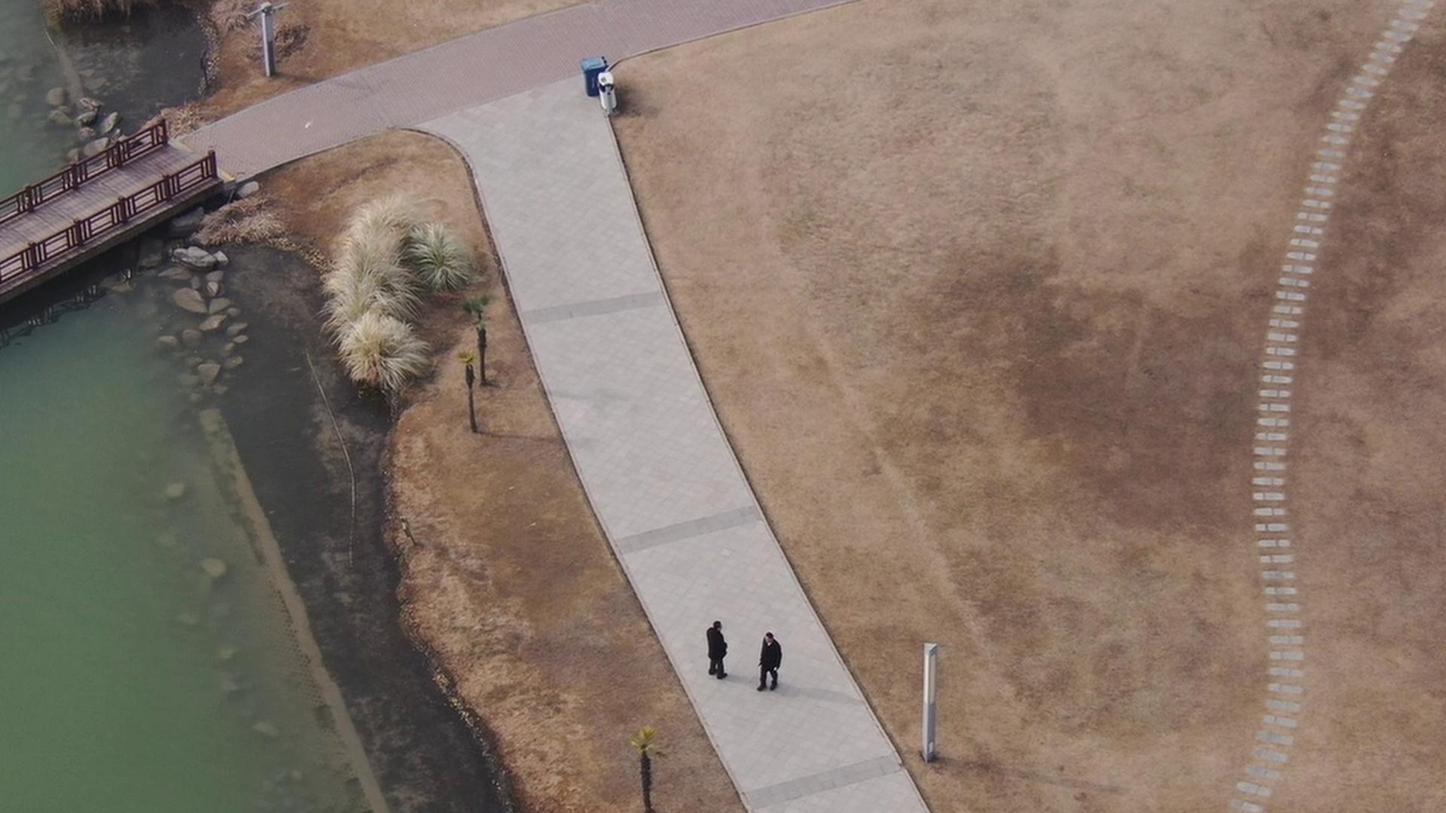human: (758, 625, 798, 695), (704, 615, 743, 683)
